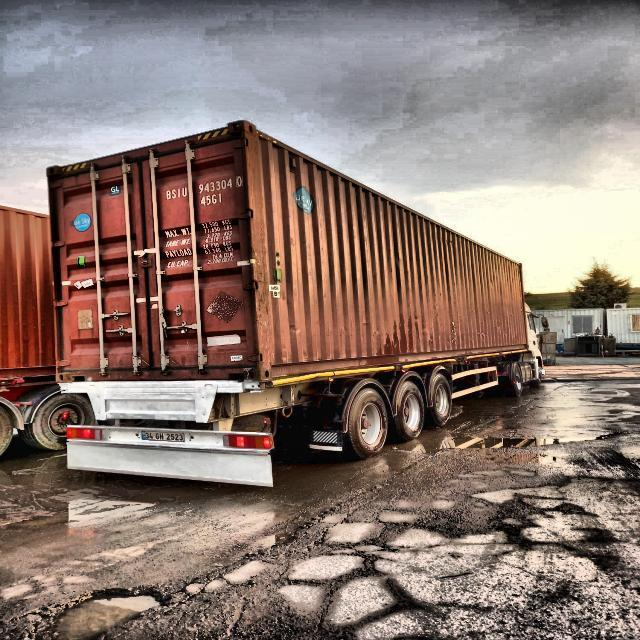ISO: (198, 192, 224, 210)
container_number: (163, 169, 249, 198)
